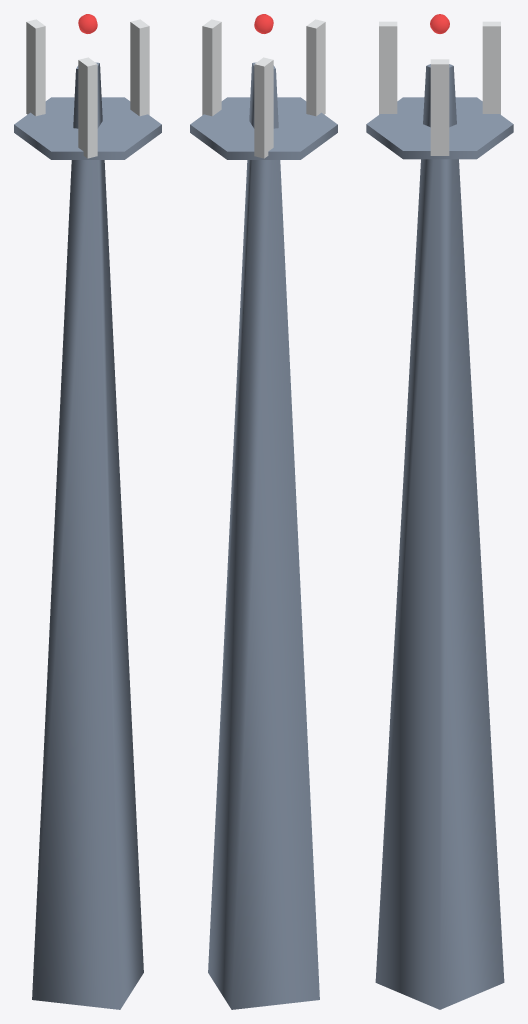
File: cell_tower.glb
3 views of the same model, side by side, from view 1: azimuth 30°, elevation 25°; view 2: azimuth 150°, elevation 25°; view 3: azimuth 270°, elevation 25° (orthographic).
Visible parts, largest first — view 1: CellTower; view 2: CellTower; view 3: CellTower.
Boxes of the visible parts, x1,y1,x2,y2 form: CellTower: [14, 14, 161, 1009]; CellTower: [190, 14, 337, 1009]; CellTower: [366, 14, 513, 1009].
Bounding box in the file's own units: 2.82 × 23.22 × 3.2.
